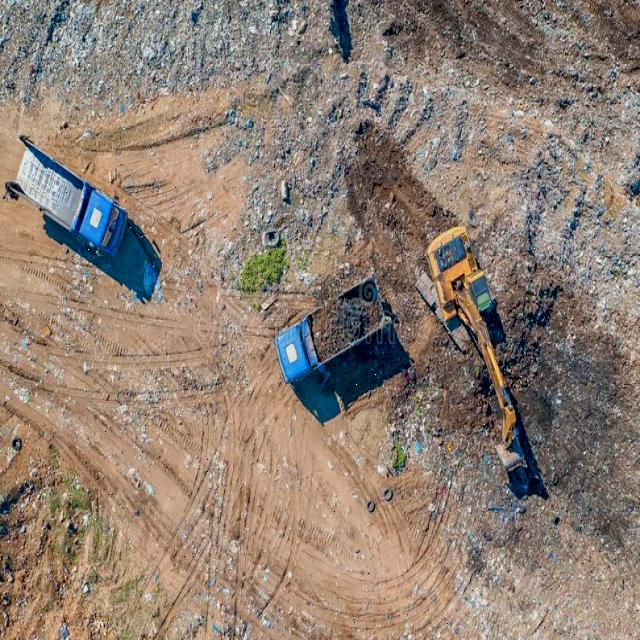Excavator: (415, 227, 541, 496)
